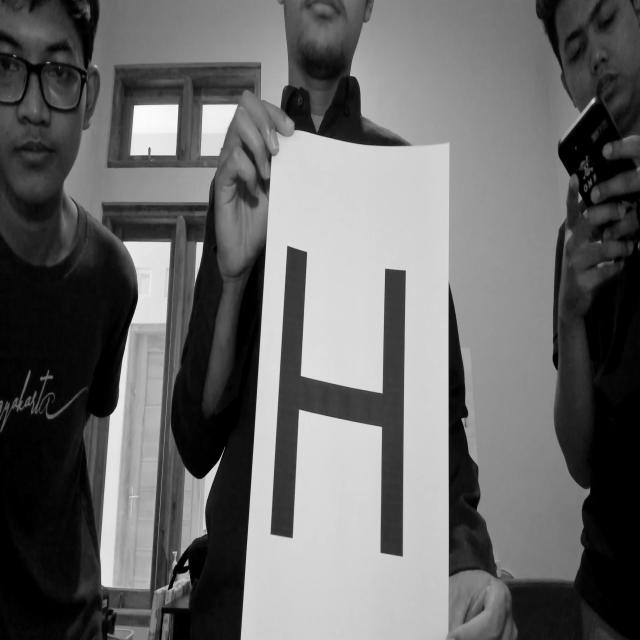h: (260, 224, 418, 607)
